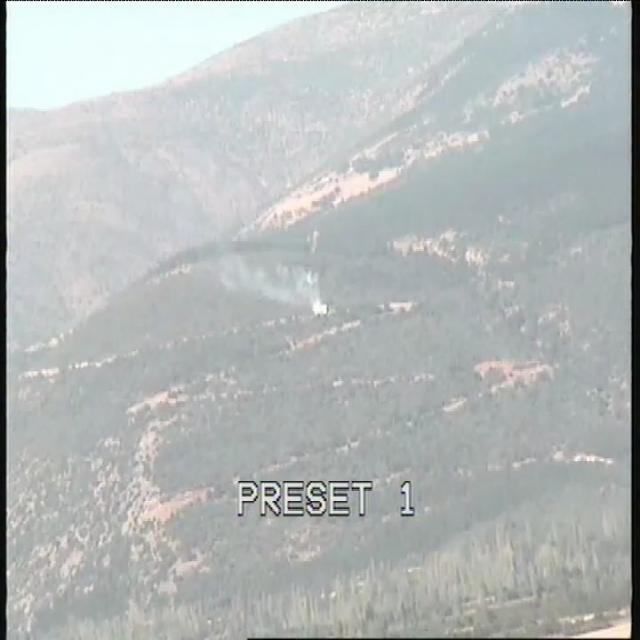smoke: (256, 266, 334, 318)
